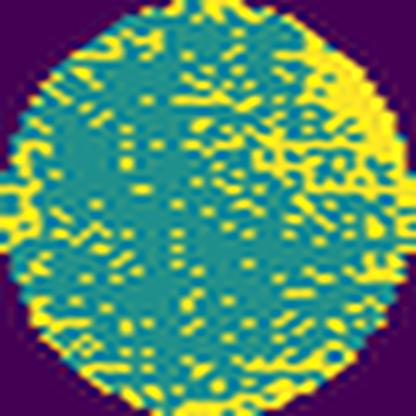Edge-Loc: (278, 17, 416, 214), (168, 375, 321, 416)
